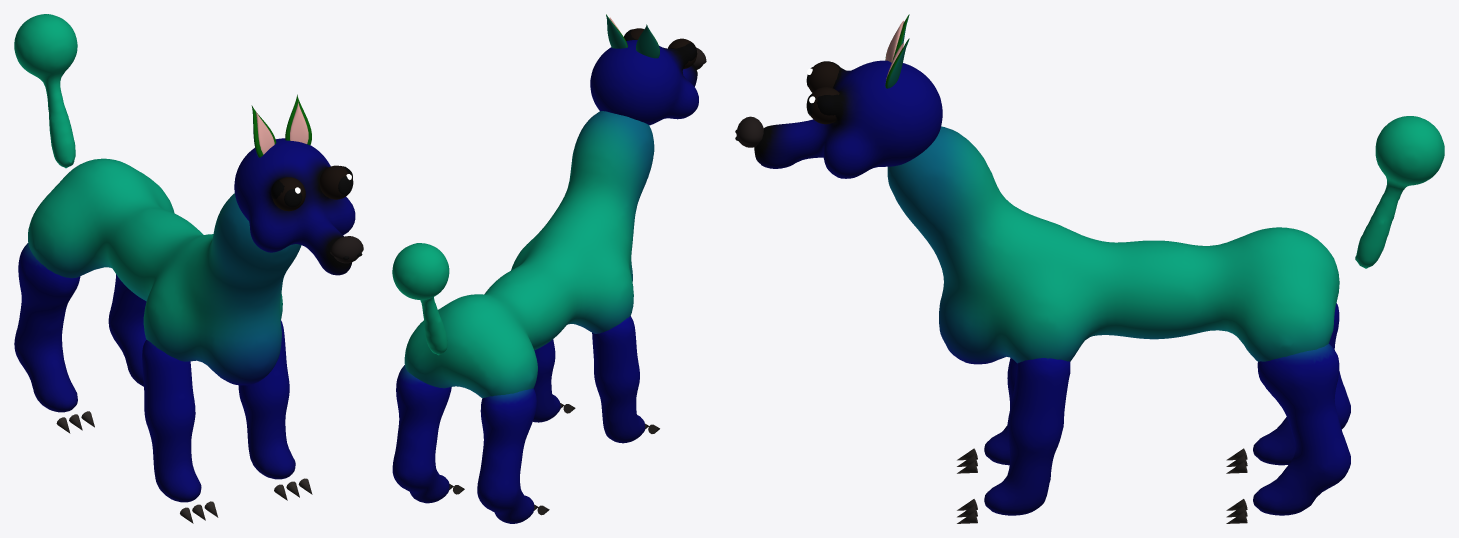
Rendered from pet_yorkie.glb.
3 renders of one model, left to right at view 1: azimuth 30°, elevation 25°; view 2: azimuth 150°, elevation 25°; view 3: azimuth 270°, elevation 25°, orthographic. The views are drawn at different scales.
Visible parts, largest first — view 1: Fur_Body, Fur_Head, Fur_LegBL, Fur_LegFL, Fur_Tail, Fur_LegFR, Fur_LegBR, Eye_R, Nose, Eye_L, EarInnerR, EarInnerL; view 2: Fur_Body, Fur_Head, Fur_LegBL, Fur_LegBR, Fur_LegFL, Fur_Tail, Fur_LegFR, Fur_EarL, Fur_EarR; view 3: Fur_Body, Fur_Head, Fur_LegBR, Fur_LegFR, Fur_Tail, Fur_LegBL, Fur_LegFL.
Part boxes in pixels (box(x1,y1,x2,y2)): Fur_Body: box(28, 158, 301, 385); Fur_Head: box(234, 138, 355, 275); Fur_LegBL: box(14, 243, 80, 412); Fur_LegFL: box(142, 340, 201, 502); Fur_Tail: box(14, 14, 77, 168); Fur_LegFR: box(238, 320, 295, 479); Fur_LegBR: box(108, 274, 146, 386); Eye_R: box(319, 165, 353, 199); Nose: box(330, 236, 363, 263); Eye_L: box(272, 177, 305, 211); EarInnerR: box(290, 101, 308, 143); EarInnerL: box(256, 112, 274, 154); Fur_Body: box(404, 111, 654, 398); Fur_Head: box(590, 29, 698, 125); Fur_LegBL: box(477, 388, 536, 523); Fur_LegBR: box(392, 365, 451, 503); Fur_LegFL: box(592, 316, 645, 443); Fur_Tail: box(392, 243, 449, 355); Fur_LegFR: box(533, 339, 560, 422); Fur_EarL: box(636, 24, 659, 58); Fur_EarR: box(606, 14, 627, 48); Fur_Body: box(887, 126, 1339, 364); Fur_Head: box(754, 60, 942, 178); Fur_LegBR: box(1253, 343, 1350, 515); Fur_LegFR: box(984, 358, 1070, 515); Fur_Tail: box(1355, 116, 1444, 268); Fur_LegBL: box(1253, 303, 1350, 465); Fur_LegFL: box(984, 358, 1017, 465).
Size of the model in its own units: 0.1175 by 0.3281 by 0.4527.
